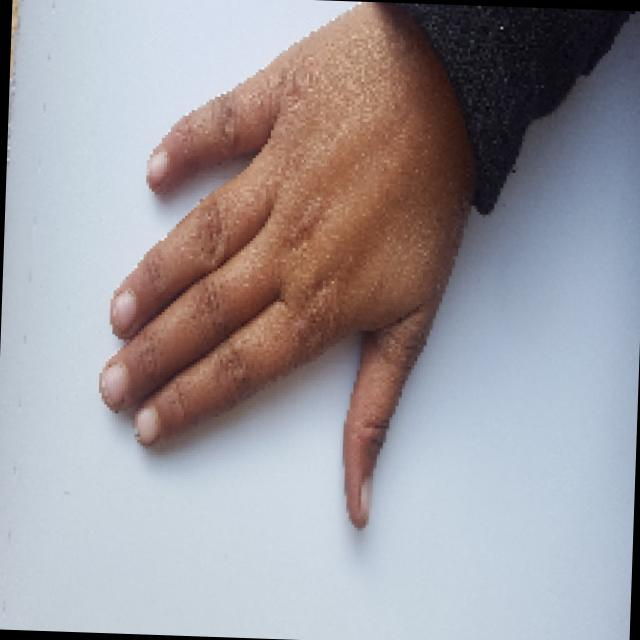Nail: (109, 288, 136, 332), (99, 364, 128, 403), (133, 407, 158, 444), (145, 150, 167, 185), (359, 475, 371, 519)
